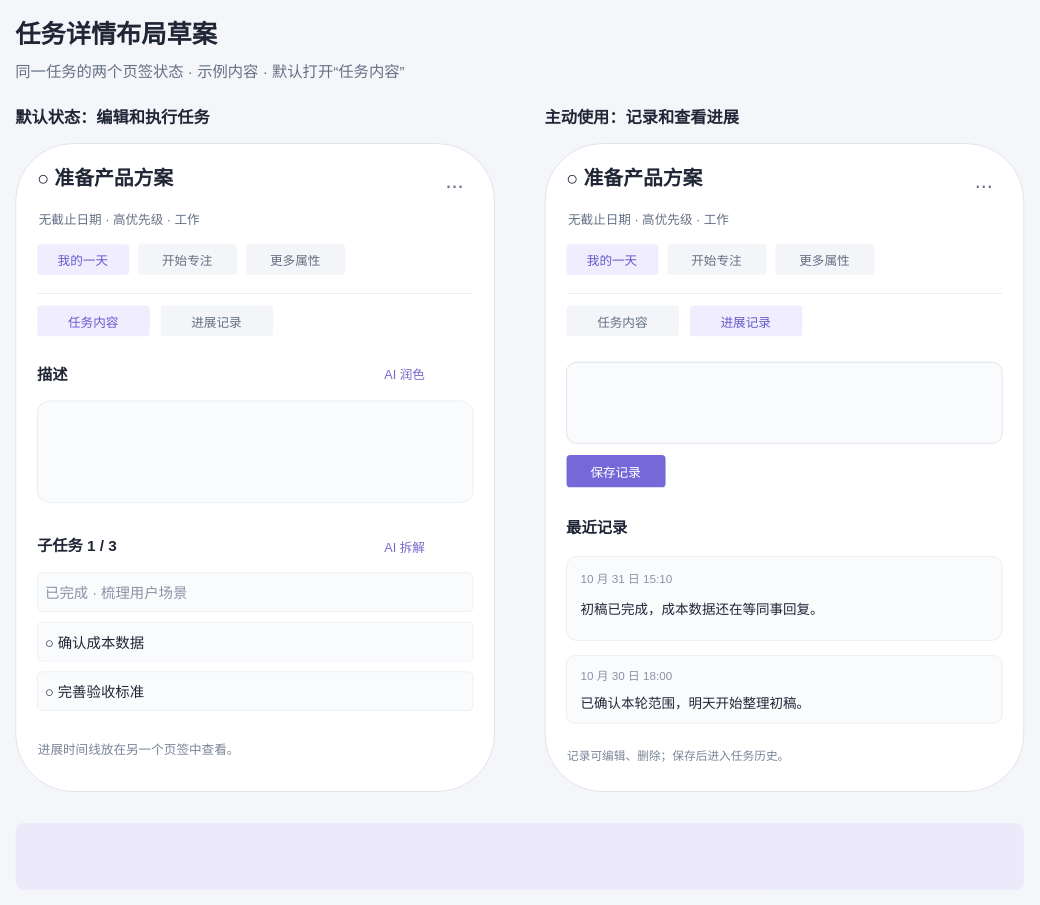
The diagram is 1040 pixels wide and 905 high, and some of its shapes have lost their labels. The shapes that lost their labels are listed below. From the top down, each one's centre as x and y in pixels, then its label:
[784,402]: 写一句最新进展，或记下遇到的问题……
[254,451]: 整理一版可审核的产品方案。 明确目标、功能范围和验收标准。
[519,856]: 日 / 周回顾放在独立页面：按时间汇总事实与自愿记录，再按需生成复盘建议。
